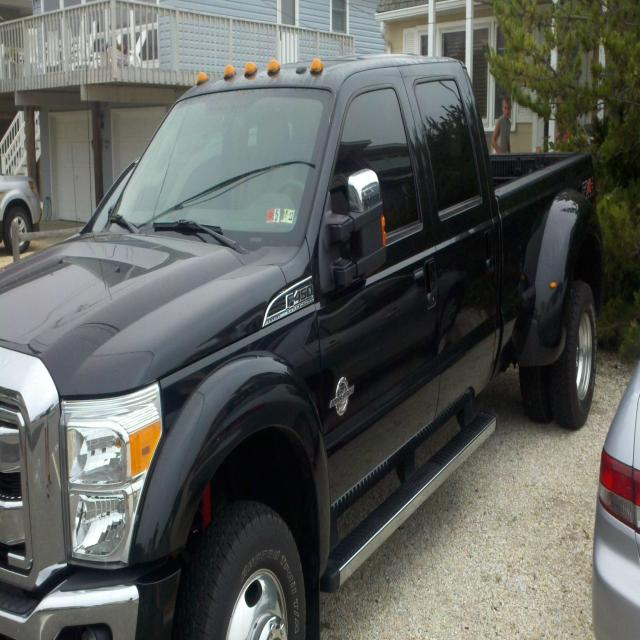Car: (0, 38, 610, 640)
